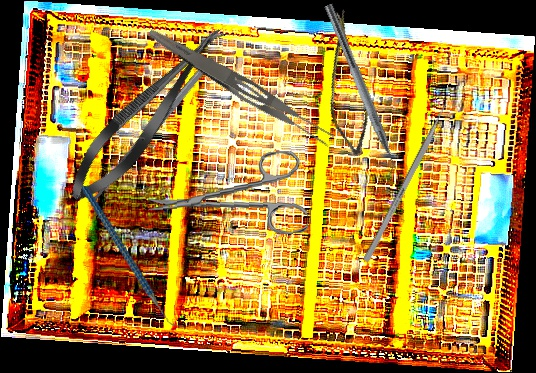Chopper: (81, 171, 184, 344), (312, 3, 406, 185)
Dressing Forceps: (142, 24, 338, 151)
Iris Scissors: (145, 149, 309, 244)
Micro Scissor: (56, 15, 238, 213), (301, 8, 389, 160)
Pusher: (362, 90, 456, 263)
Scalpel Handle: (88, 58, 214, 205)
